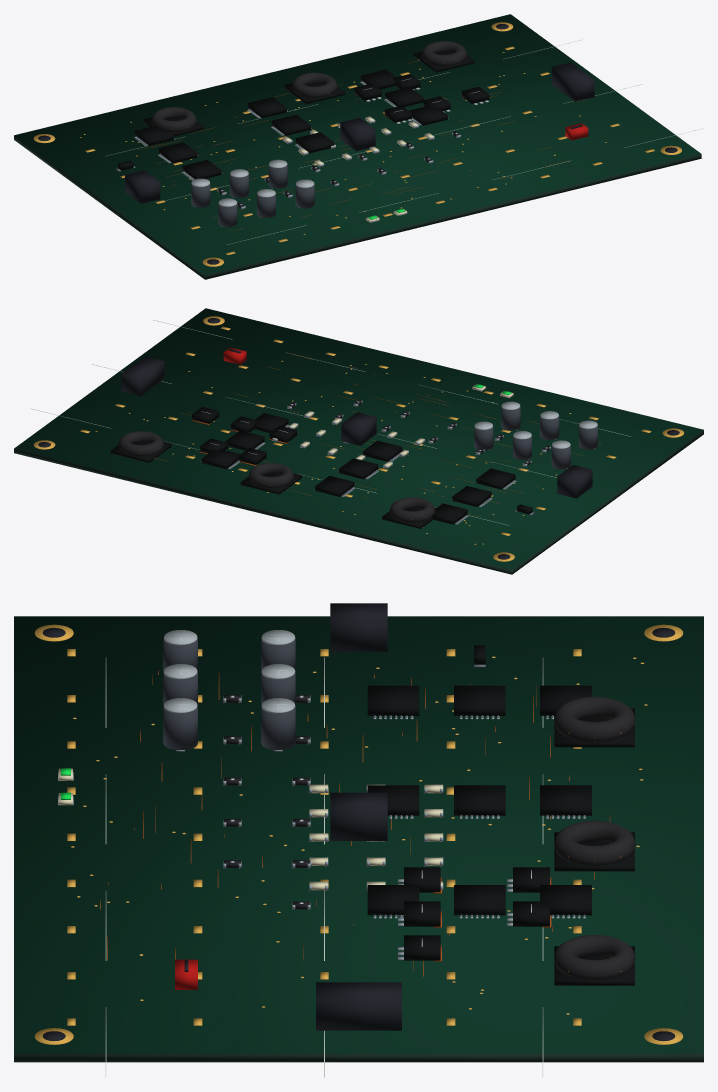
Rendered from L98_COMPLETE_BOARD_VISUAL_REFERENCE_ONLY.obj.
3 views of the same model, one above another, from view 1: azimuth 30°, elevation 25°; view 2: azimuth 150°, elevation 25°; view 3: azimuth 270°, elevation 25° (orthographic). The views are drawn at different scales.
Visible parts, largest first — view 1: item57_1__PSMAT__PCB_Soldermask, item57_0__PSMAT__PCB_FR4, item52_0__PSMAT__Connector_Black, item50_0__PSMAT__Connector_Black, item51_0__PSMAT__Connector_Black, item16_0__PSMAT__Ferrite, item17_0__PSMAT__Ferrite, item15_0__PSMAT__Ferrite, item5_0__PSMAT__IC_Epoxy, item4_0__PSMAT__IC_Epoxy, item8_0__PSMAT__IC_Epoxy, item2_0__PSMAT__IC_Epoxy (+9 smaller); view 2: item57_1__PSMAT__PCB_Soldermask, item57_0__PSMAT__PCB_FR4, item52_0__PSMAT__Connector_Black, item51_0__PSMAT__Connector_Black, item50_0__PSMAT__Connector_Black, item15_0__PSMAT__Ferrite, item17_0__PSMAT__Ferrite, item16_0__PSMAT__Ferrite, item4_0__PSMAT__IC_Epoxy, item8_0__PSMAT__IC_Epoxy, item1_0__PSMAT__IC_Epoxy, item5_0__PSMAT__IC_Epoxy (+7 smaller); view 3: item57_1__PSMAT__PCB_Soldermask, item57_0__PSMAT__PCB_FR4, item52_0__PSMAT__Connector_Black, item16_0__PSMAT__Ferrite, item15_0__PSMAT__Ferrite, item17_0__PSMAT__Ferrite, item51_0__PSMAT__Connector_Black, item50_0__PSMAT__Connector_Black, item1_0__PSMAT__IC_Epoxy, item4_0__PSMAT__IC_Epoxy, item8_0__PSMAT__IC_Epoxy, item5_0__PSMAT__IC_Epoxy (+19 smaller).
Boxes of the visible parts, x1,y1,x2,y2 form: item57_1__PSMAT__PCB_Soldermask: (15, 14, 700, 274); item57_0__PSMAT__PCB_FR4: (14, 15, 701, 279); item52_0__PSMAT__Connector_Black: (551, 62, 594, 101); item50_0__PSMAT__Connector_Black: (125, 170, 160, 203); item51_0__PSMAT__Connector_Black: (340, 118, 375, 151); item16_0__PSMAT__Ferrite: (292, 72, 337, 97); item17_0__PSMAT__Ferrite: (421, 41, 466, 65); item15_0__PSMAT__Ferrite: (151, 107, 196, 131); item5_0__PSMAT__IC_Epoxy: (271, 114, 310, 135); item4_0__PSMAT__IC_Epoxy: (158, 142, 197, 163); item8_0__PSMAT__IC_Epoxy: (248, 97, 286, 118); item2_0__PSMAT__IC_Epoxy: (295, 132, 334, 153); item57_1__PSMAT__PCB_Soldermask: (14, 308, 703, 569); item57_0__PSMAT__PCB_FR4: (14, 309, 703, 574); item52_0__PSMAT__Connector_Black: (121, 356, 164, 395); item51_0__PSMAT__Connector_Black: (341, 412, 376, 445); item50_0__PSMAT__Connector_Black: (557, 465, 592, 498); item15_0__PSMAT__Ferrite: (390, 497, 434, 522); item17_0__PSMAT__Ferrite: (118, 431, 163, 456); item16_0__PSMAT__Ferrite: (248, 463, 293, 487); item4_0__PSMAT__IC_Epoxy: (452, 486, 491, 506); item8_0__PSMAT__IC_Epoxy: (315, 476, 354, 496); item1_0__PSMAT__IC_Epoxy: (476, 468, 515, 489); item5_0__PSMAT__IC_Epoxy: (339, 458, 378, 479); item57_1__PSMAT__PCB_Soldermask: (14, 616, 703, 1053); item57_0__PSMAT__PCB_FR4: (14, 616, 703, 1062); item52_0__PSMAT__Connector_Black: (316, 982, 401, 1030); item16_0__PSMAT__Ferrite: (554, 820, 635, 865); item15_0__PSMAT__Ferrite: (554, 696, 635, 741); item17_0__PSMAT__Ferrite: (554, 935, 635, 979); item51_0__PSMAT__Connector_Black: (330, 792, 387, 840); item50_0__PSMAT__Connector_Black: (330, 603, 387, 651); item1_0__PSMAT__IC_Epoxy: (367, 685, 419, 715); item4_0__PSMAT__IC_Epoxy: (454, 685, 505, 715); item8_0__PSMAT__IC_Epoxy: (540, 785, 591, 815); item5_0__PSMAT__IC_Epoxy: (454, 785, 505, 815).
Bounding box in the file's own units: 0.19 × 0.00937 × 0.12.
Materials: 18 (18 with a texture image).
